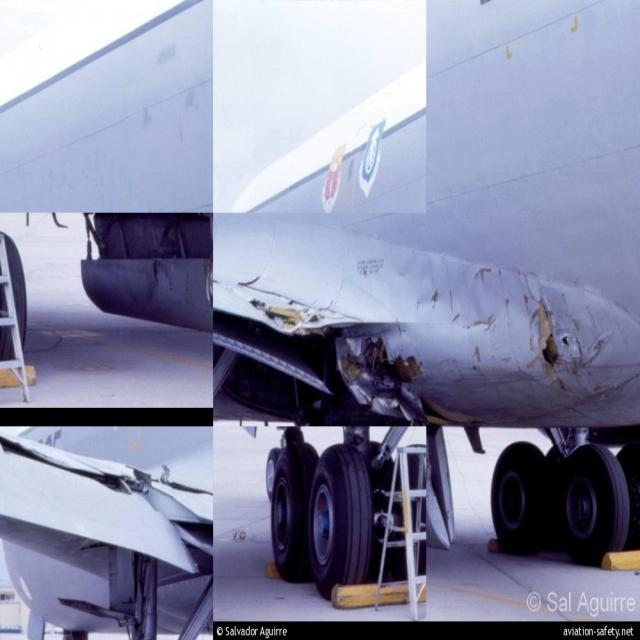crack: (536, 296, 575, 396)
dent: (405, 254, 531, 343)
